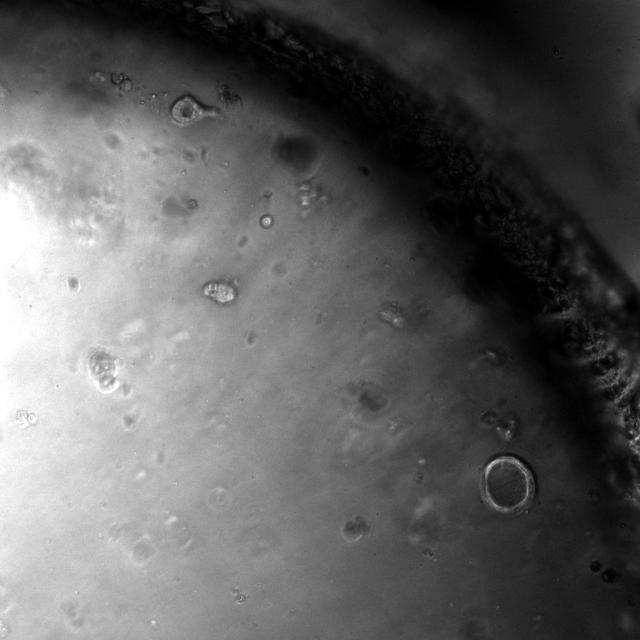organoid: (481, 455, 536, 516), (170, 94, 222, 126), (346, 378, 388, 417), (86, 348, 118, 392), (480, 410, 519, 441), (341, 515, 370, 543), (378, 301, 406, 328), (204, 281, 236, 304), (14, 409, 38, 428), (111, 72, 132, 91), (259, 214, 274, 229), (68, 277, 78, 291), (188, 199, 198, 209)
